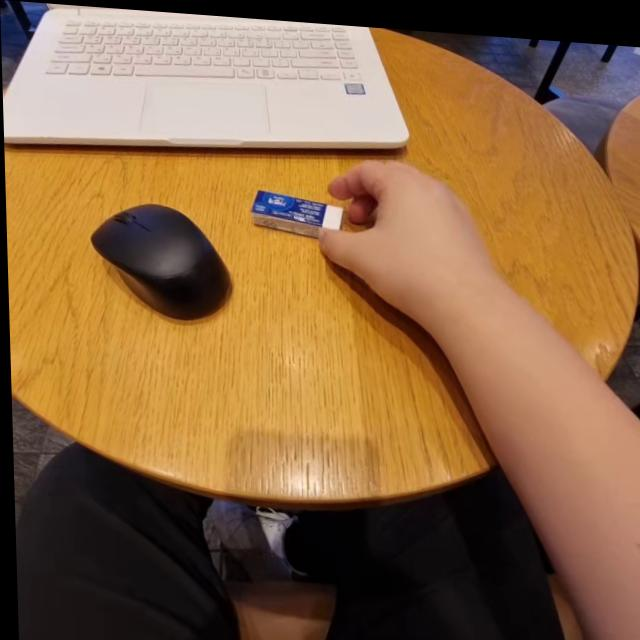grab_eraser: (245, 145, 495, 305)
mouse: (77, 187, 245, 327)
